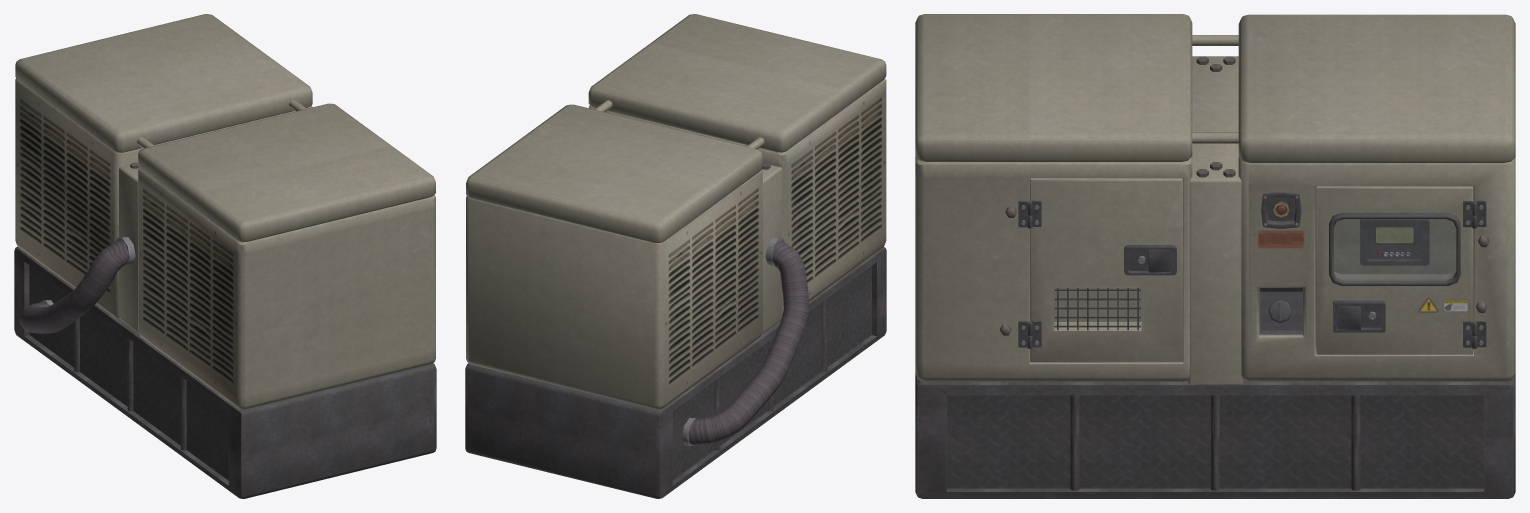
The model's file is groupe_electrogene.glb.
The picture shows the model from 3 angles, left to right: view 1: azimuth 30°, elevation 25°; view 2: azimuth 150°, elevation 25°; view 3: azimuth 270°, elevation 25°; orthographic projection. The views are drawn at different scales.
Visible parts, largest first — view 1: Object_2; view 2: Object_2; view 3: Object_2.
Boxes of the visible parts, bbox=[...] form: Object_2: bbox=[14, 14, 436, 498]; Object_2: bbox=[465, 14, 886, 498]; Object_2: bbox=[915, 14, 1515, 498].
Size of the model in its own units: 23.08 by 24.4 by 36.44.
1 material, 1 textured.
